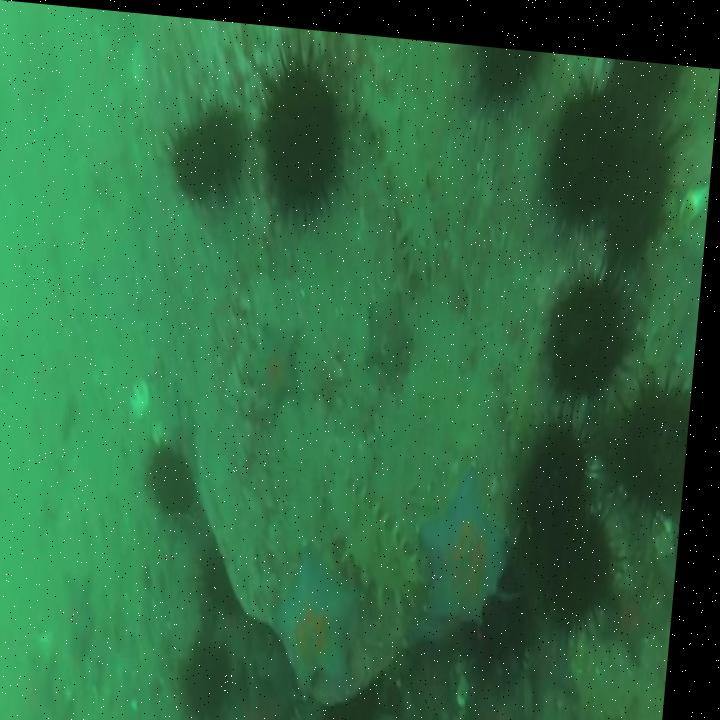echinus: (244, 27, 355, 224), (541, 253, 644, 400), (602, 105, 693, 271), (537, 485, 632, 644), (544, 55, 630, 229), (614, 362, 698, 526), (522, 399, 606, 546), (163, 88, 249, 215), (465, 36, 551, 115), (146, 435, 212, 521), (602, 46, 690, 109), (188, 628, 248, 720), (203, 532, 257, 610), (328, 663, 400, 720)
holothurian: (344, 72, 455, 290), (324, 463, 440, 612), (503, 282, 557, 456)
starfish: (425, 458, 527, 623), (270, 543, 378, 696), (250, 313, 315, 424), (365, 277, 422, 373)
